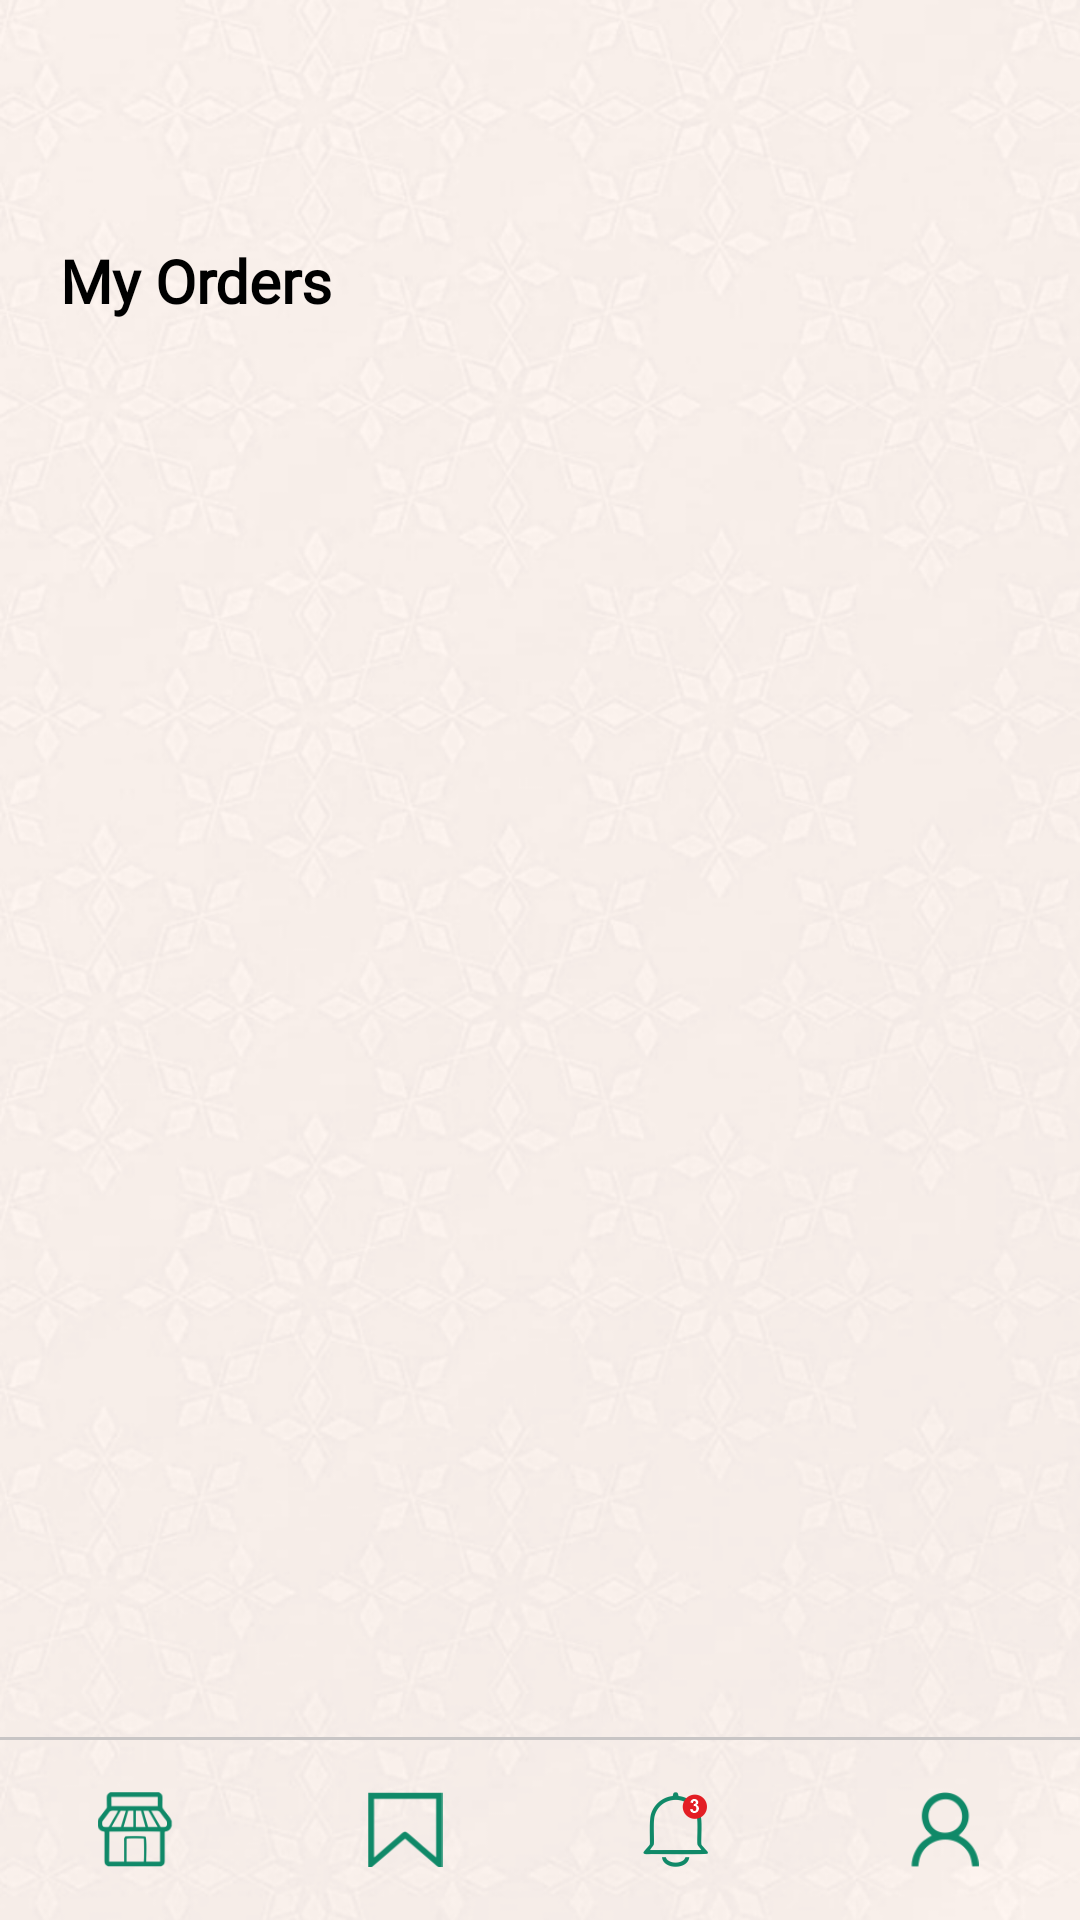

Point at icon controls on the screen. Image size 1080px×1920px, points as (x=x, y=y).
bottom accountant: (x=945, y=1829)
bottom bell: (x=675, y=1829)
bottom home: (x=135, y=1829)
bottom save: (x=405, y=1829)
